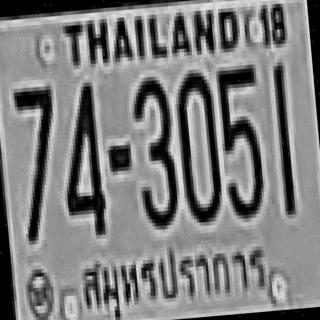N00: (174, 69, 224, 225)
N01: (270, 62, 295, 208)
N03: (130, 74, 180, 230)
N04: (57, 80, 107, 236)
N05: (216, 66, 266, 218)
N07: (10, 83, 63, 238)
P57: (74, 238, 270, 320)
